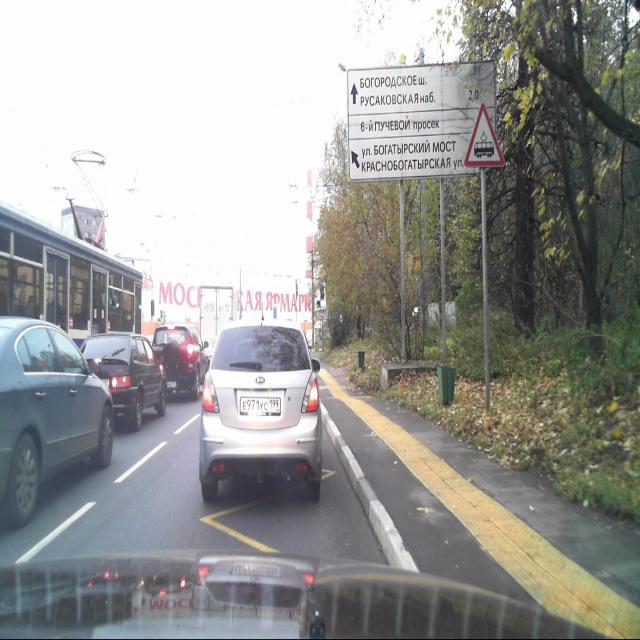road sign: (348, 61, 496, 181), (464, 104, 506, 168), (480, 170, 491, 411), (440, 180, 448, 356), (399, 180, 406, 360)
